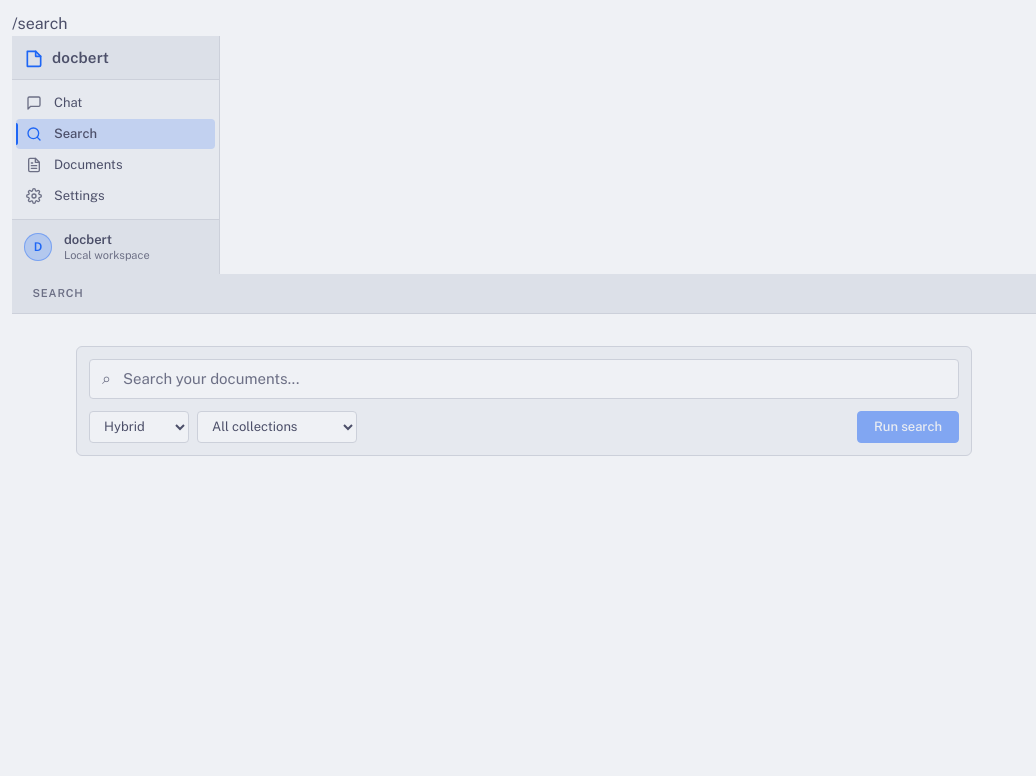
Test: Search page › renders full search results through the shared component and supports document navigation
Type "rust" into the search field named "Query".
click(534, 379); type("rust")  # box [123,361,946,397]
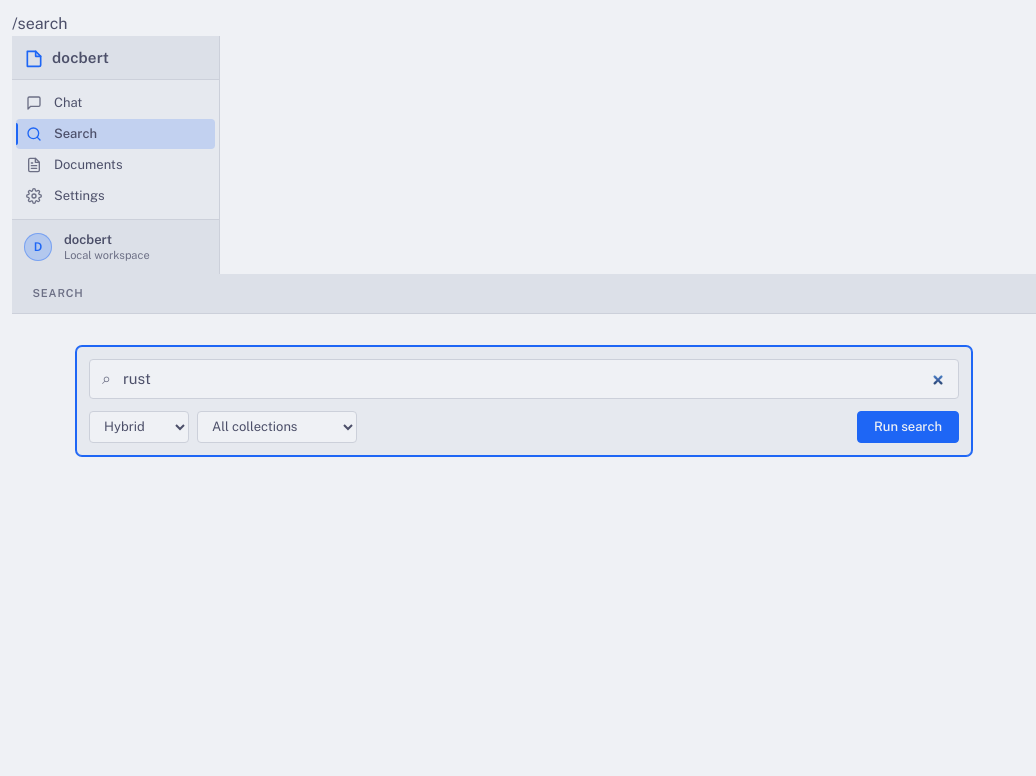
Click the button "Run search".
click(908, 427)  # box [857,411,959,443]
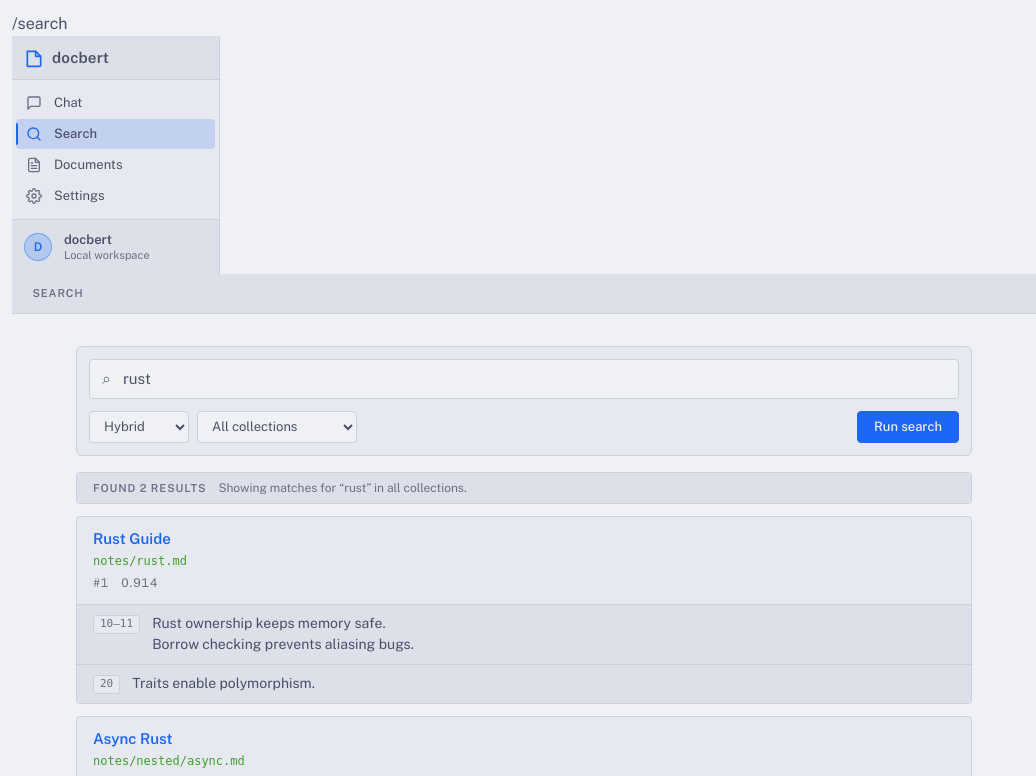
Result: the link "Rust Guide" is shown
Result: the text "notes/rust.md" is shown at [93,552,187,570]
Result: the text "#1" is shown at [93,574,109,592]
Click the link "Rust Guide".
click(132, 539)  # box [93,530,171,548]
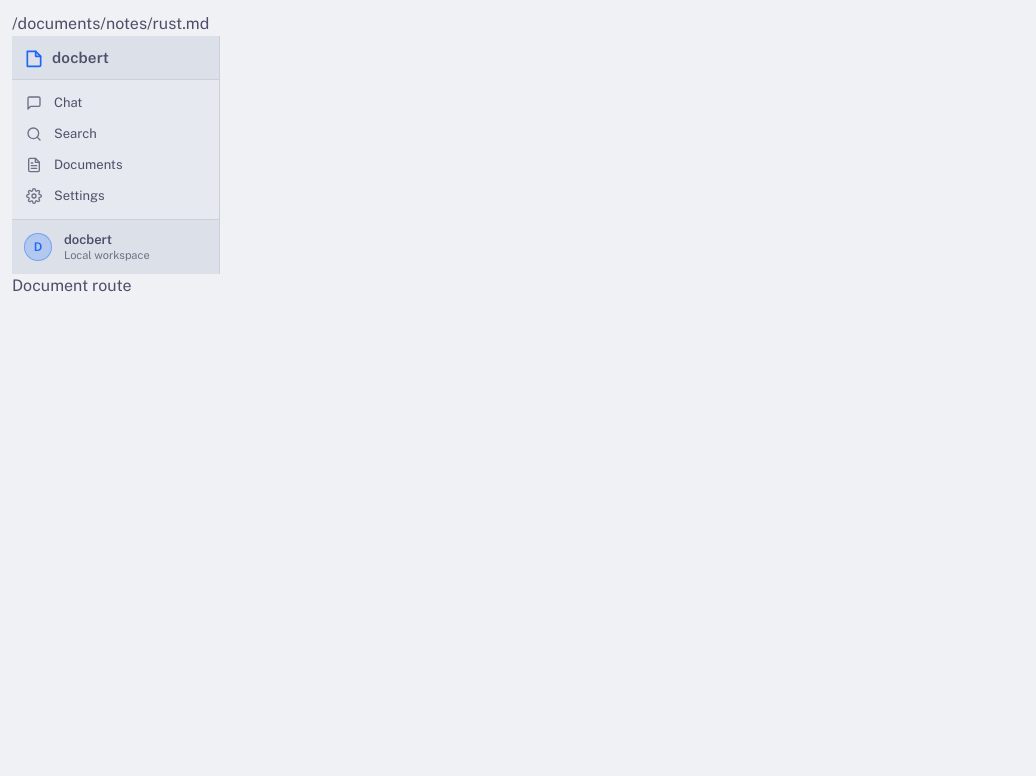
Result: the text "Document route" is shown at [12,276,132,295]
Result: the text with test id "location-path" reads "/documents/notes/rust.md" at [12,14,209,33]
